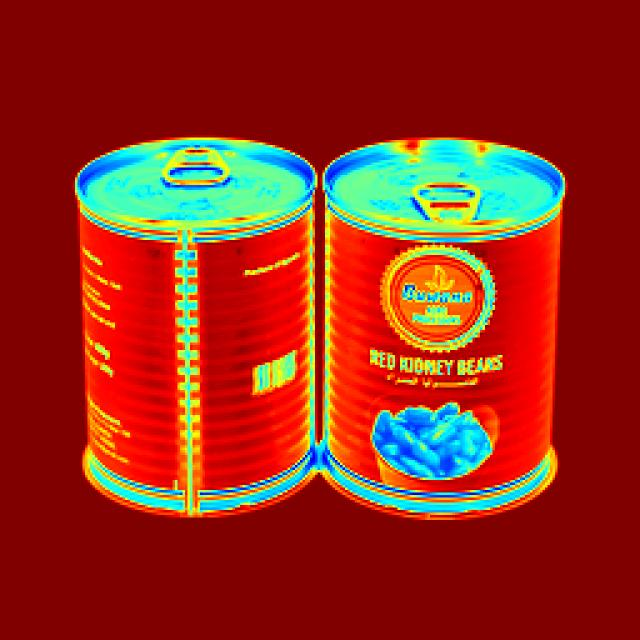Aluminium Food Cans: (303, 121, 574, 511), (58, 123, 322, 506)
